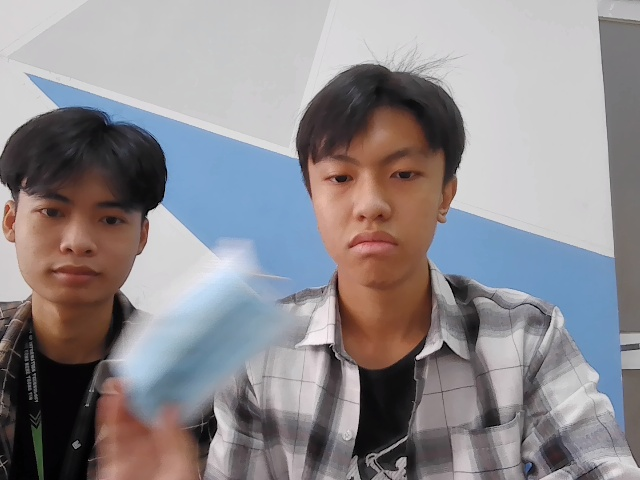human: (294, 61, 464, 283), (4, 107, 163, 304)
